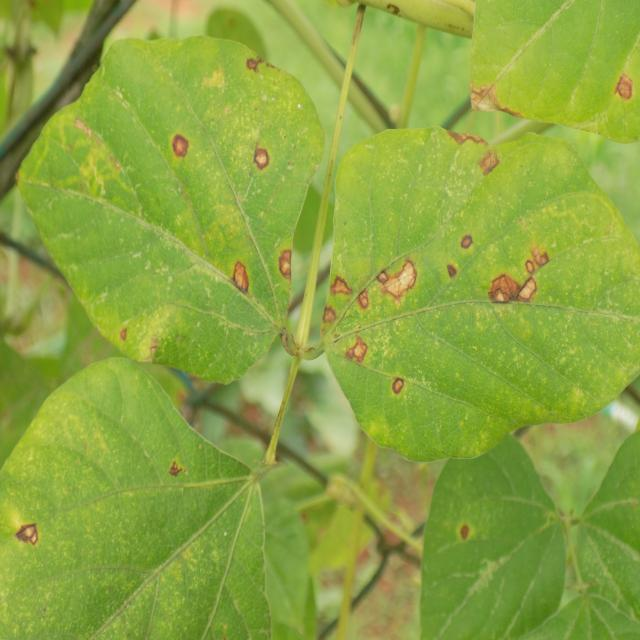Dolicos bean_cercospora leaf spot: (19, 38, 331, 384), (329, 130, 640, 460), (419, 419, 570, 640)
